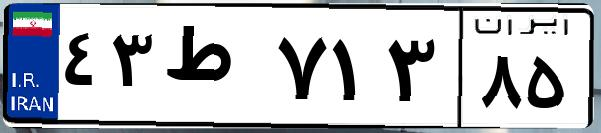1: (330, 28, 385, 110)
3: (385, 28, 445, 110), (110, 28, 158, 98)
4: (57, 26, 110, 100)
5: (525, 38, 570, 115)
7: (270, 28, 330, 110)
8: (475, 38, 525, 113)
ط: (158, 20, 270, 120)
